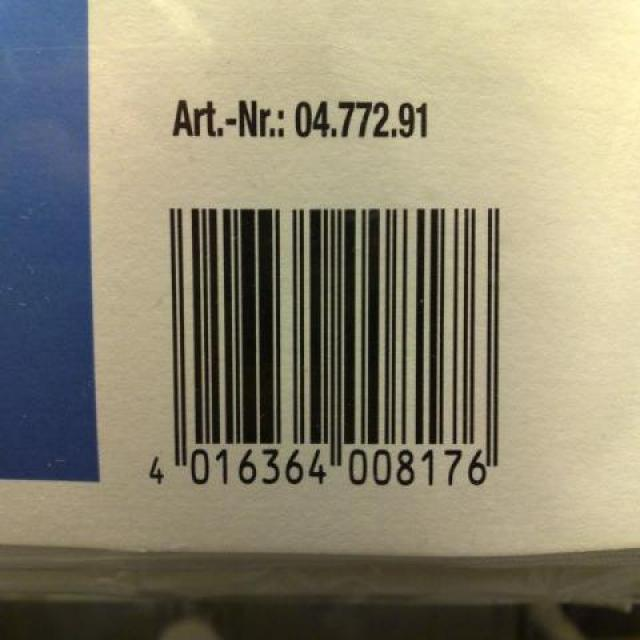Barcode: (128, 183, 532, 512)
